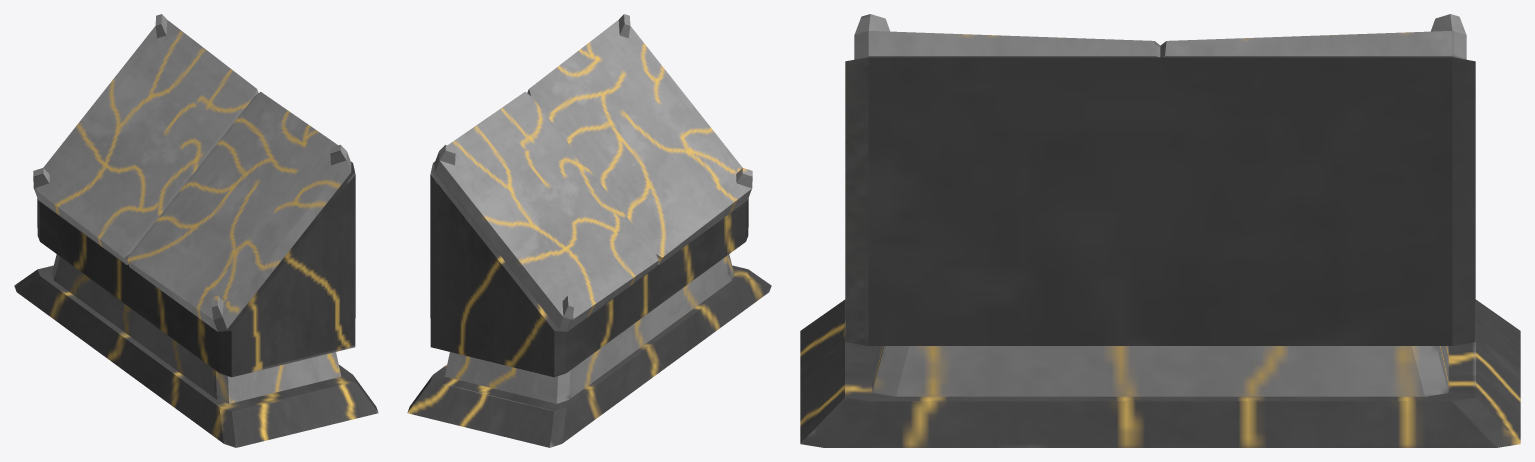
Rendered from ShotgunDisplay.fbx.
The picture shows the model from 3 angles, left to right: view 1: azimuth 30°, elevation 25°; view 2: azimuth 150°, elevation 25°; view 3: azimuth 270°, elevation 25°; orthographic projection. The views are drawn at different scales.
Visible parts, largest first — view 1: ShotgunDisplay_Base, ShotgunDisplay_R, ShotgunDisplay_L; view 2: ShotgunDisplay_Base, ShotgunDisplay_L, ShotgunDisplay_R; view 3: ShotgunDisplay_Base, ShotgunDisplay_L, ShotgunDisplay_R.
Part boxes in pixels (x1,y1,x2,y2): ShotgunDisplay_Base: [14, 161, 378, 447]; ShotgunDisplay_R: [127, 92, 351, 331]; ShotgunDisplay_L: [33, 14, 258, 264]; ShotgunDisplay_Base: [407, 161, 771, 447]; ShotgunDisplay_L: [434, 92, 658, 331]; ShotgunDisplay_R: [527, 14, 752, 264]; ShotgunDisplay_Base: [800, 57, 1520, 447]; ShotgunDisplay_L: [1160, 14, 1466, 59]; ShotgunDisplay_R: [854, 14, 1160, 59].
Bounding box in the file's own units: 102 × 163 × 256.
